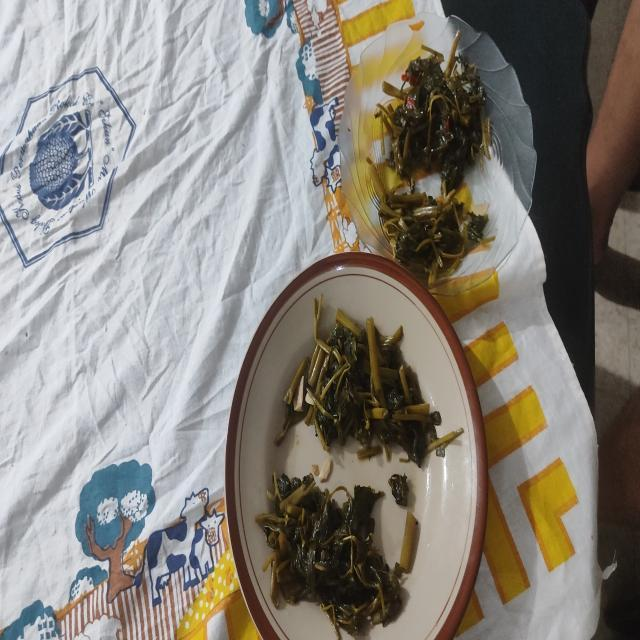tumis_kangkung: (276, 294, 464, 467), (366, 31, 492, 279), (255, 473, 416, 640)
